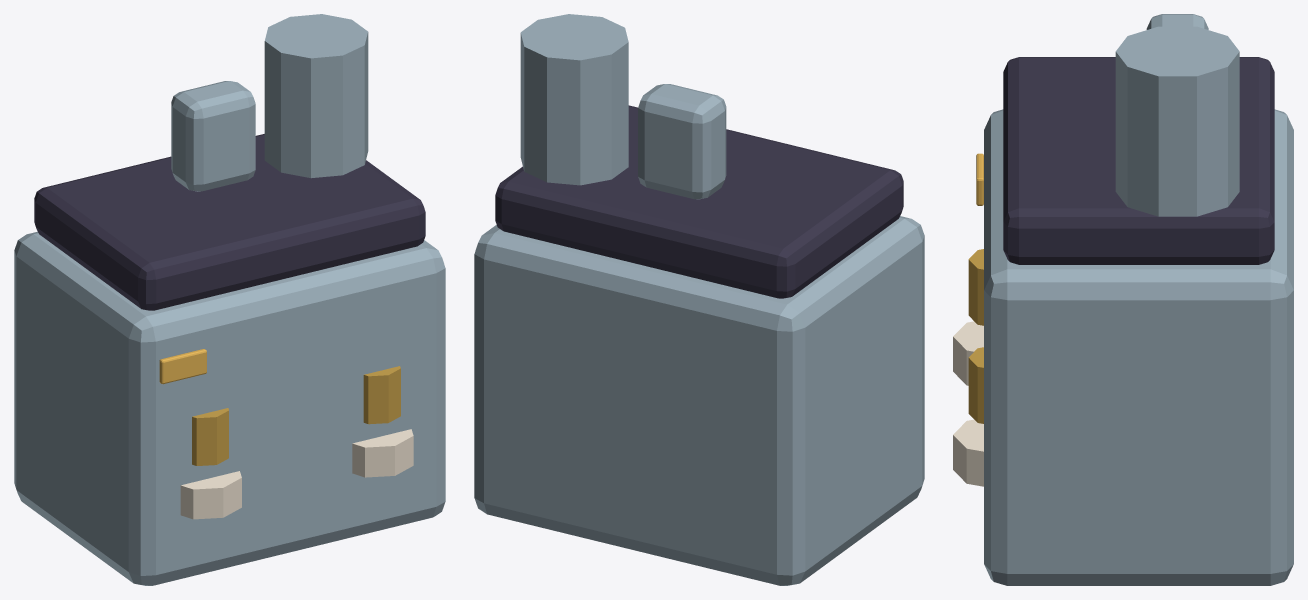
Rendered from espresso_machine_pro.glb.
The picture shows the model from 3 angles, left to right: view 1: azimuth 30°, elevation 25°; view 2: azimuth 150°, elevation 25°; view 3: azimuth 270°, elevation 25°; orthographic projection. The views are drawn at different scales.
Parts seen in each view (by area): view 1: espresso_machine_pro; view 2: espresso_machine_pro; view 3: espresso_machine_pro.
Boxes of the visible parts, left/top/right/bottom form: espresso_machine_pro: left=14, top=14, right=445, bottom=585; espresso_machine_pro: left=474, top=14, right=924, bottom=585; espresso_machine_pro: left=953, top=14, right=1293, bottom=585.
Bounding box in the file's own units: 0.55 × 0.73 × 0.44.
